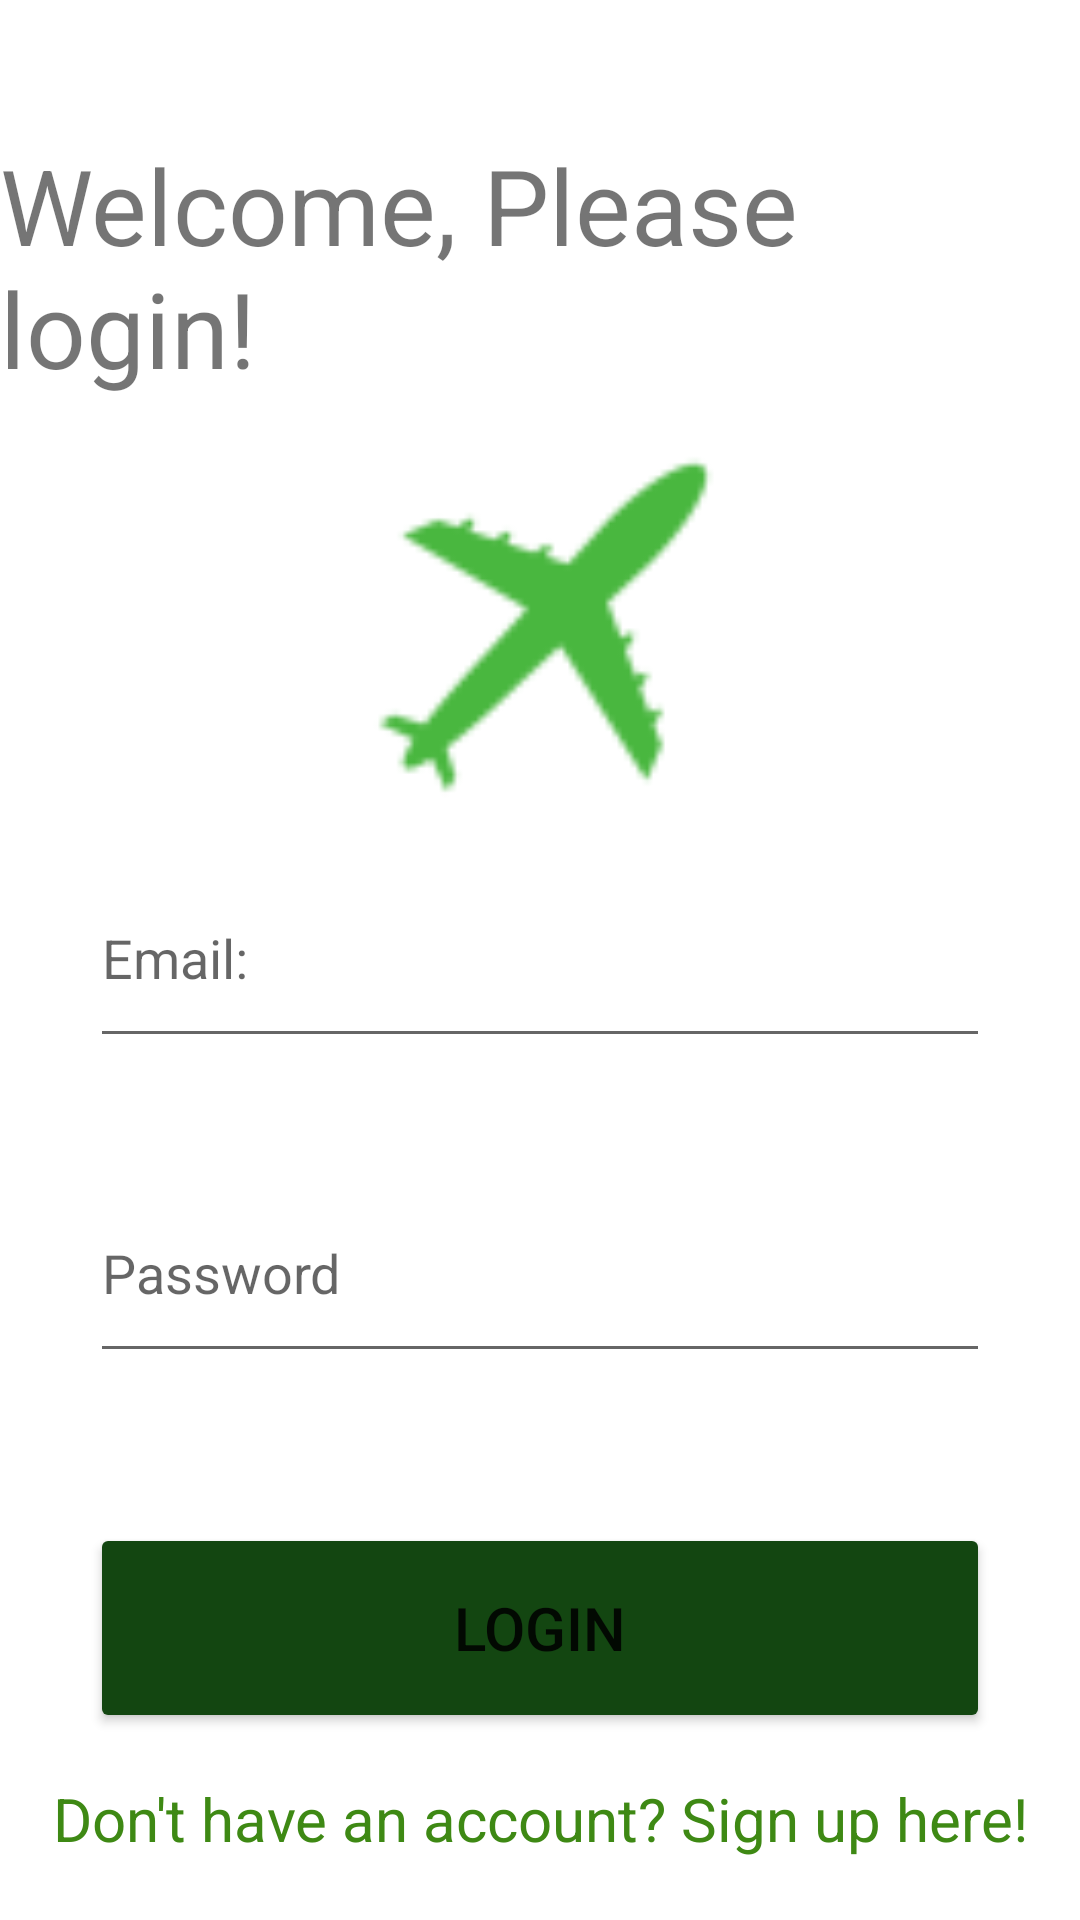

Screen size 1080w x 1920h. Icon name, then its box in pixels as (x1, y1, x2, y2):
besttravel: (379, 462, 708, 792)
